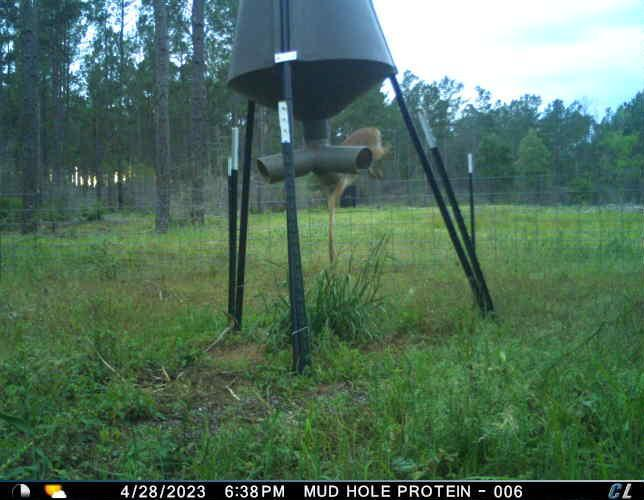Deer: (309, 123, 390, 262)
